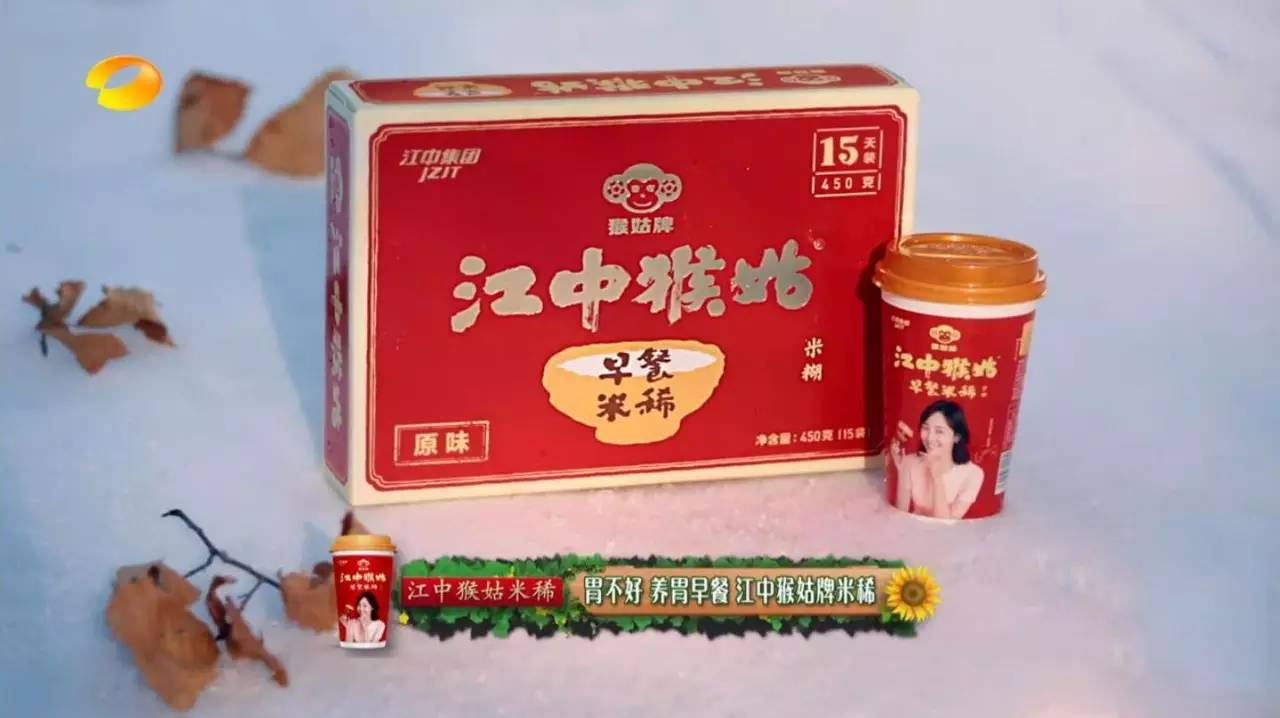box: (326, 69, 918, 505)
cup: (871, 235, 1042, 523), (330, 533, 396, 653)
